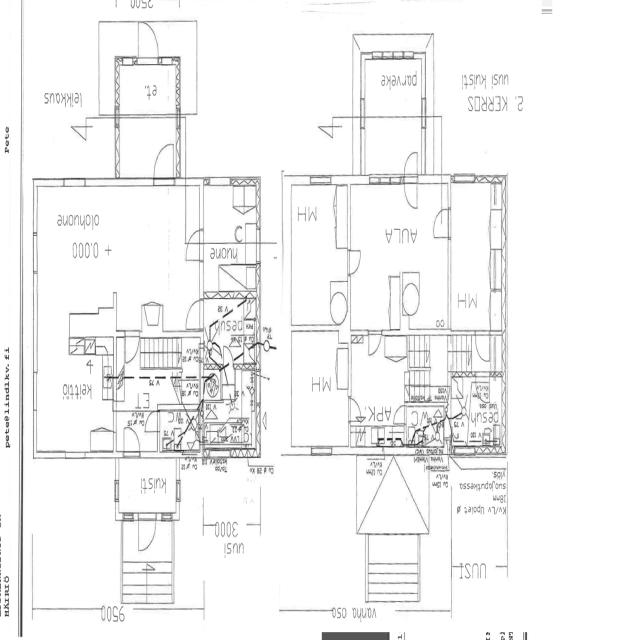door: (401, 148, 420, 213), (151, 138, 176, 184), (137, 19, 160, 67), (136, 512, 158, 556), (122, 422, 142, 460), (472, 328, 492, 366), (183, 296, 204, 332), (123, 329, 141, 368), (431, 206, 450, 240), (184, 228, 204, 258), (365, 327, 383, 360), (143, 408, 160, 440), (346, 248, 364, 277), (347, 394, 362, 422), (391, 402, 407, 427)
window: (118, 170, 155, 190), (29, 219, 41, 280), (369, 170, 402, 190), (309, 172, 333, 189), (207, 173, 233, 188), (364, 438, 385, 456), (382, 437, 404, 454), (310, 443, 333, 459), (63, 176, 87, 190)
zone: (350, 188, 450, 331), (33, 296, 116, 457), (114, 184, 201, 334), (278, 4, 350, 153), (34, 185, 120, 297), (289, 182, 348, 329), (449, 183, 505, 334), (116, 67, 178, 187), (290, 330, 350, 450), (117, 332, 202, 409), (201, 179, 258, 293), (351, 336, 408, 449), (201, 369, 260, 452), (203, 294, 258, 372), (116, 454, 179, 518), (361, 57, 424, 120), (452, 375, 504, 449), (117, 61, 179, 122), (404, 402, 448, 448), (158, 408, 201, 452)
